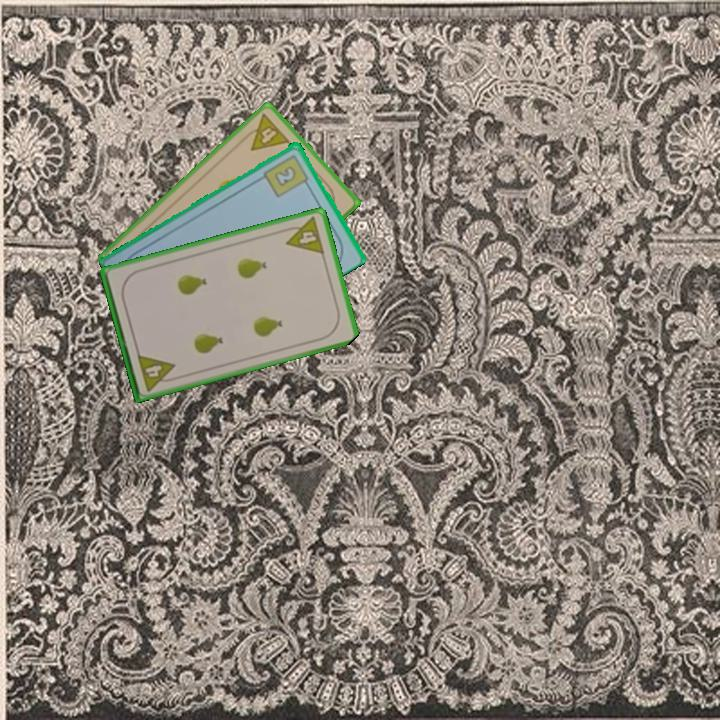2b: (260, 150, 312, 200)
4p: (238, 110, 293, 154), (279, 213, 327, 257), (134, 350, 180, 394)
